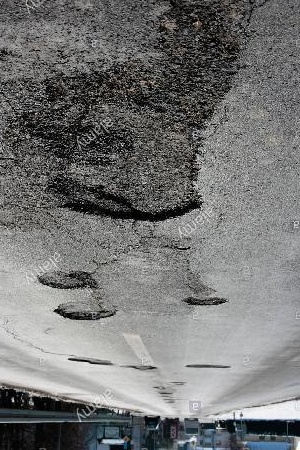pothole: (17, 57, 207, 224), (34, 268, 99, 294), (51, 301, 118, 322), (66, 354, 119, 367), (183, 295, 229, 306), (183, 364, 232, 372), (123, 363, 160, 373), (153, 383, 167, 392)
